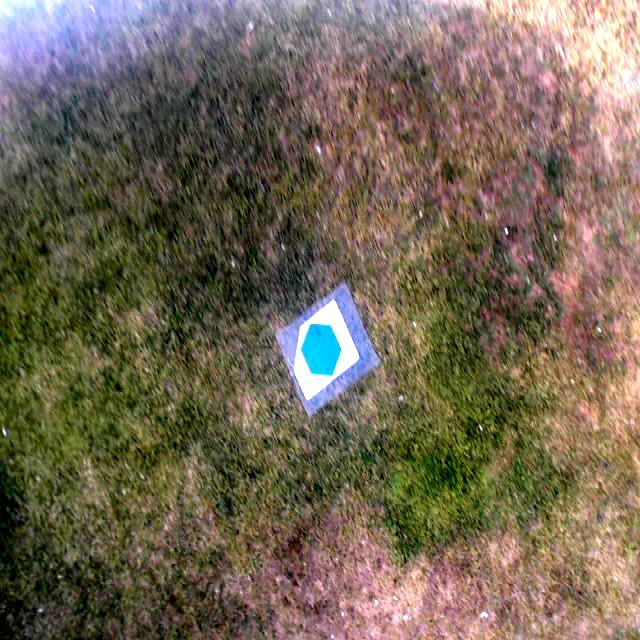blue_hexagon: (299, 322, 342, 378)
